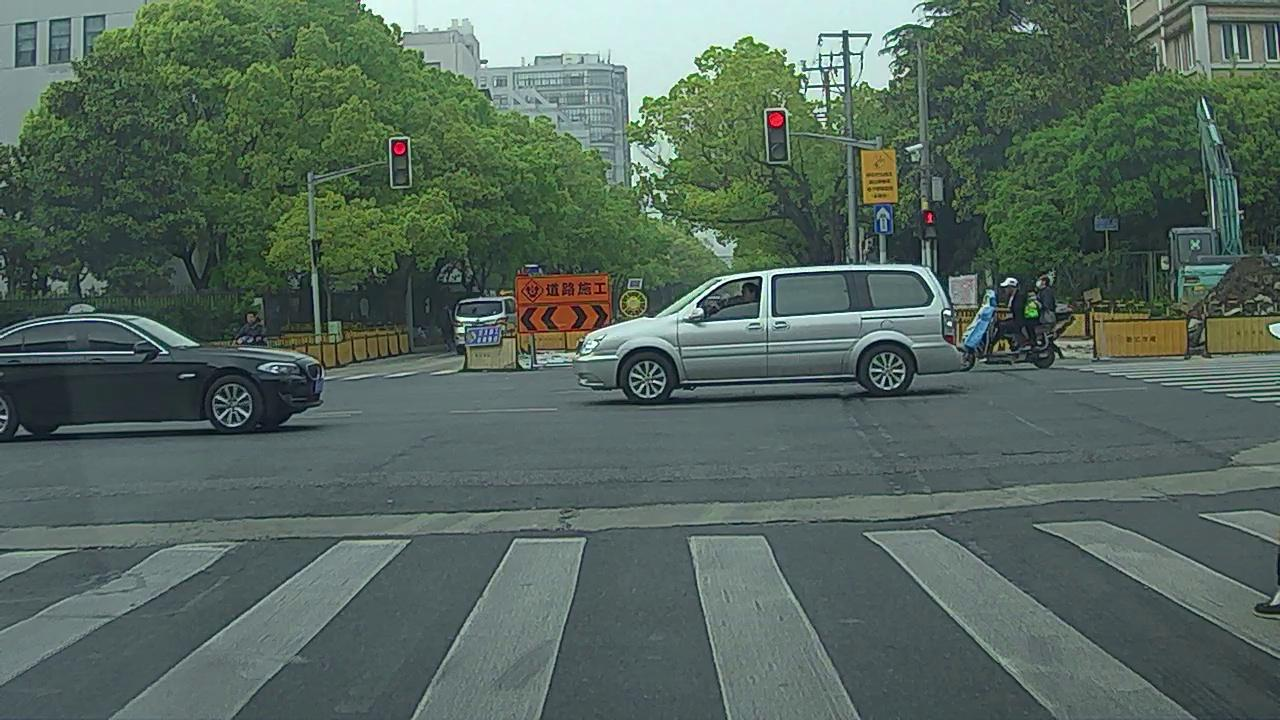traffic_light: (768, 109, 789, 161), (389, 140, 409, 185)
